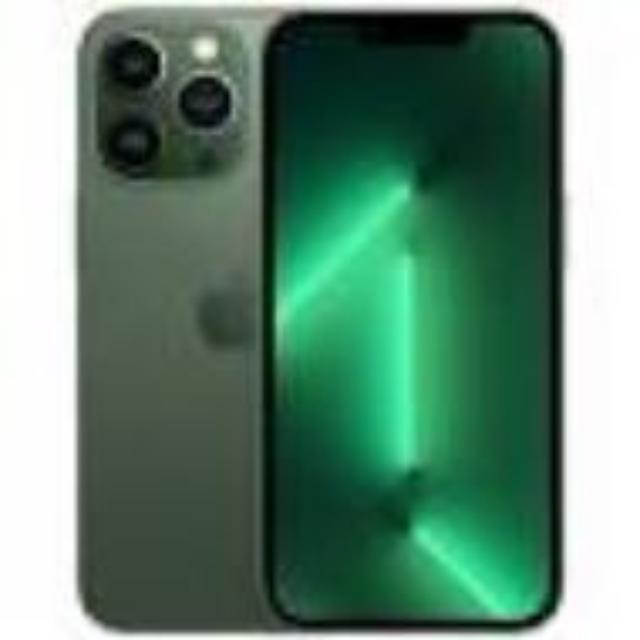Phone: (268, 12, 560, 628), (76, 9, 268, 632)
